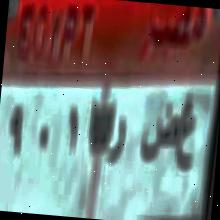0: (34, 120, 55, 166)
1: (60, 100, 86, 169)
9: (7, 102, 28, 169)
daad: (137, 96, 179, 178)
ghayn: (176, 86, 205, 182)
raa: (103, 113, 136, 177)
